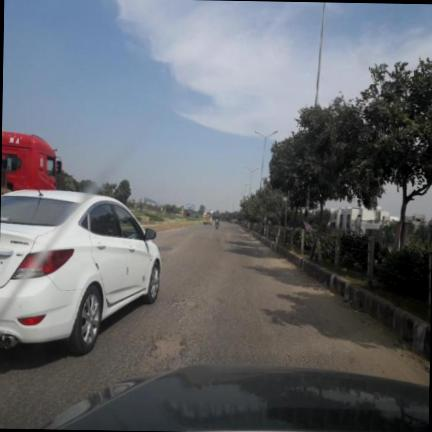Road: (0, 224, 429, 428)
